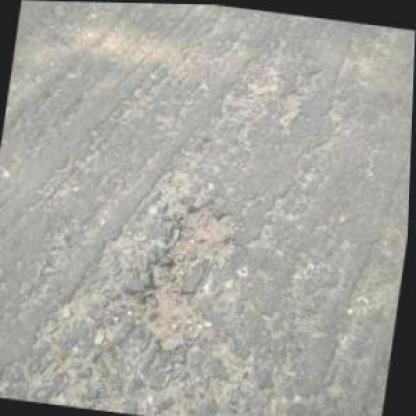pothole: (124, 197, 238, 356)
